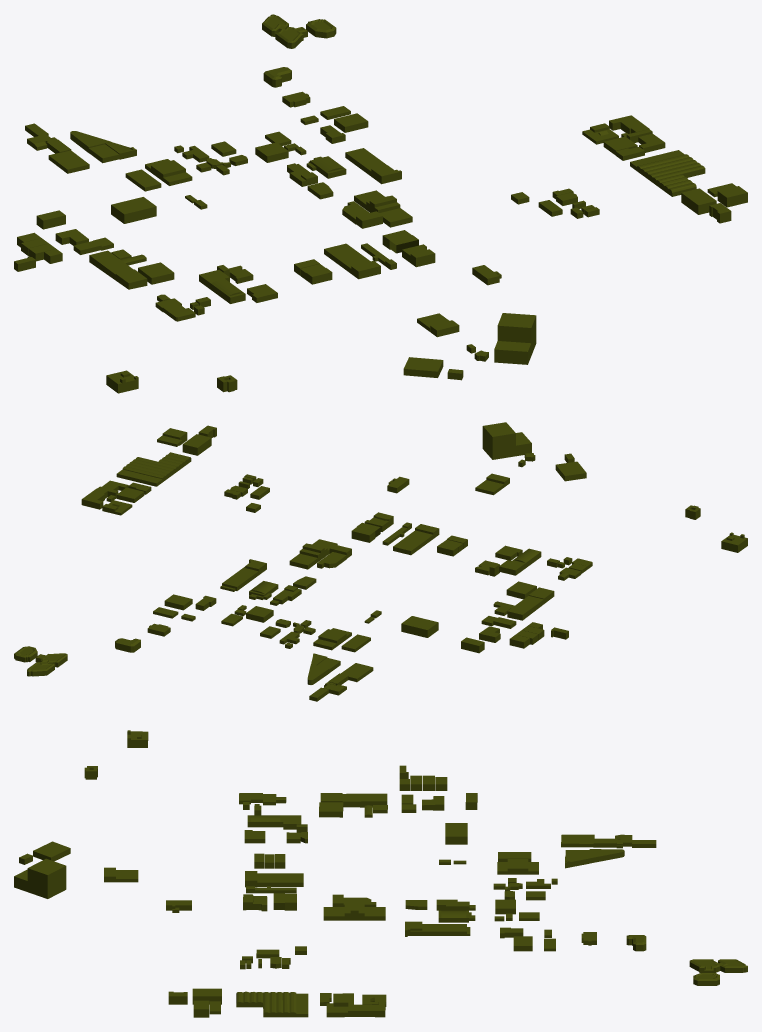
Rendered from VUL_Old Building.FBX.
3 renders of one model, top to bottom at view 1: azimuth 30°, elevation 25°; view 2: azimuth 150°, elevation 25°; view 3: azimuth 270°, elevation 25°, orthographic. The views are drawn at different scales.
Visible parts, largest first — view 1: VUL_8729740000_OLD2000, VUL_6849200065_OLD2000, VUL_6849200005_OLD2000, VUL_1988201350_OLD2000, VUL_1983200290_OLD2000, VUL_6849700175_OLD2000, VUL_1983200325_OLD2000, VUL_4088803047_OLD2000, VUL_4088803565_OLD2000, VUL_4088803385_OLD2000, VUL_4129300000_OLD2000, VUL_2467400101_OLD2000 (+16 smaller); view 2: VUL_8729740000_OLD2000, VUL_6849200005_OLD2000, VUL_6849200065_OLD2000, VUL_1988201350_OLD2000, VUL_1983200290_OLD2000, VUL_6849700175_OLD2000, VUL_1983200325_OLD2000, VUL_4088803047_OLD2000, VUL_4088803565_OLD2000, VUL_4088803385_OLD2000, VUL_4129300000_OLD2000, VUL_1986200215_OLD2000 (+14 smaller); view 3: VUL_6849200005_OLD2000, VUL_8729740000_OLD2000, VUL_1988201350_OLD2000, VUL_6849200065_OLD2000, VUL_1983200290_OLD2000, VUL_6849700175_OLD2000, VUL_4088803565_OLD2000, VUL_1983200325_OLD2000, VUL_4088803047_OLD2000, VUL_4088803385_OLD2000, VUL_1986200215_OLD2000, VUL_1988201215_OLD2000 (+14 smaller).
Part boxes in pixels (x1=…): VUL_8729740000_OLD2000: x1=466, y1=313, x2=536, y2=364; VUL_6849200065_OLD2000: x1=582, y1=115, x2=665, y2=160; VUL_6849200005_OLD2000: x1=630, y1=150, x2=705, y2=196; VUL_1988201350_OLD2000: x1=89, y1=249, x2=174, y2=289; VUL_1983200290_OLD2000: x1=342, y1=190, x2=412, y2=228; VUL_6849700175_OLD2000: x1=681, y1=183, x2=747, y2=223; VUL_1983200325_OLD2000: x1=287, y1=156, x2=346, y2=199; VUL_4088803047_OLD2000: x1=262, y1=14, x2=336, y2=48; VUL_4088803565_OLD2000: x1=25, y1=123, x2=89, y2=173; VUL_4088803385_OLD2000: x1=125, y1=159, x2=192, y2=191; VUL_4129300000_OLD2000: x1=300, y1=106, x2=368, y2=143; VUL_2467400101_OLD2000: x1=511, y1=188, x2=599, y2=218; VUL_8729740000_OLD2000: x1=482, y1=422, x2=535, y2=467; VUL_6849200005_OLD2000: x1=116, y1=452, x2=191, y2=486; VUL_6849200065_OLD2000: x1=81, y1=480, x2=151, y2=515; VUL_1988201350_OLD2000: x1=493, y1=581, x2=554, y2=620; VUL_1983200290_OLD2000: x1=289, y1=539, x2=351, y2=569; VUL_6849700175_OLD2000: x1=157, y1=425, x2=216, y2=455; VUL_1983200325_OLD2000: x1=249, y1=576, x2=316, y2=605; VUL_4088803047_OLD2000: x1=14, y1=646, x2=67, y2=676; VUL_4088803565_OLD2000: x1=309, y1=663, x2=373, y2=701; VUL_4088803385_OLD2000: x1=313, y1=628, x2=370, y2=652; VUL_4129300000_OLD2000: x1=153, y1=594, x2=216, y2=621; VUL_1986200215_OLD2000: x1=393, y1=524, x2=439, y2=555; VUL_6849200005_OLD2000: x1=236, y1=991, x2=308, y2=1017; VUL_8729740000_OLD2000: x1=14, y1=858, x2=66, y2=898; VUL_1988201350_OLD2000: x1=319, y1=793, x2=387, y2=817; VUL_6849200065_OLD2000: x1=320, y1=993, x2=386, y2=1017; VUL_1983200290_OLD2000: x1=323, y1=894, x2=385, y2=920; VUL_6849700175_OLD2000: x1=168, y1=988, x2=221, y2=1017; VUL_4088803565_OLD2000: x1=561, y1=834, x2=656, y2=848; VUL_1983200325_OLD2000: x1=405, y1=899, x2=475, y2=922; VUL_4088803047_OLD2000: x1=689, y1=959, x2=747, y2=985; VUL_4088803385_OLD2000: x1=497, y1=852, x2=538, y2=874; VUL_1986200215_OLD2000: x1=245, y1=871, x2=303, y2=887; VUL_1988201215_OLD2000: x1=399, y1=765, x2=447, y2=790.
Size of the model in its own units: 1074 by 63.85 by 1198.
